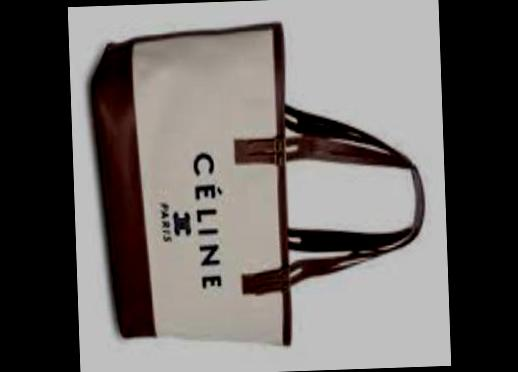CELINE: (192, 152, 225, 290)
